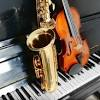Piano: (1, 54, 100, 100)
Saxophone: (21, 1, 62, 93)
Violin: (50, 1, 92, 76)
